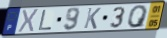3: (109, 6, 126, 29)
9: (63, 7, 80, 32)
K: (82, 7, 102, 30)
L: (37, 9, 54, 31)
Q: (127, 4, 149, 29)
X: (17, 8, 40, 33)
